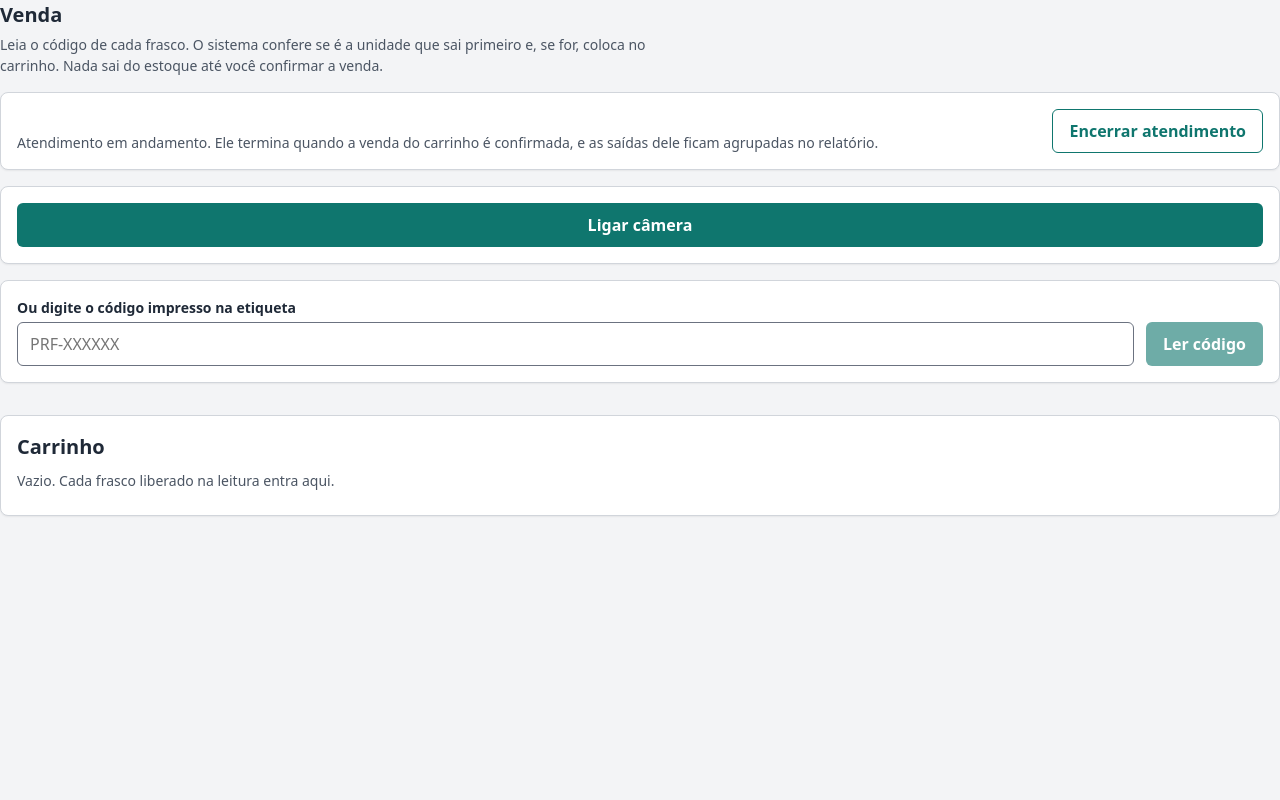
Scenario: TelaVenda (RF05, RF06, RNF07, T34) › os quatro vereditos na leitura, cada um com seu layout › informa a unidade vencida, oferece os caminhos e não a põe no carrinho
This screenshot has width=1280, height=800.
Type "PRF-VVVVVV" into the field labelled "Ou digite o código impresso na etiqueta" at (575, 344), box [17,322,1134,366]
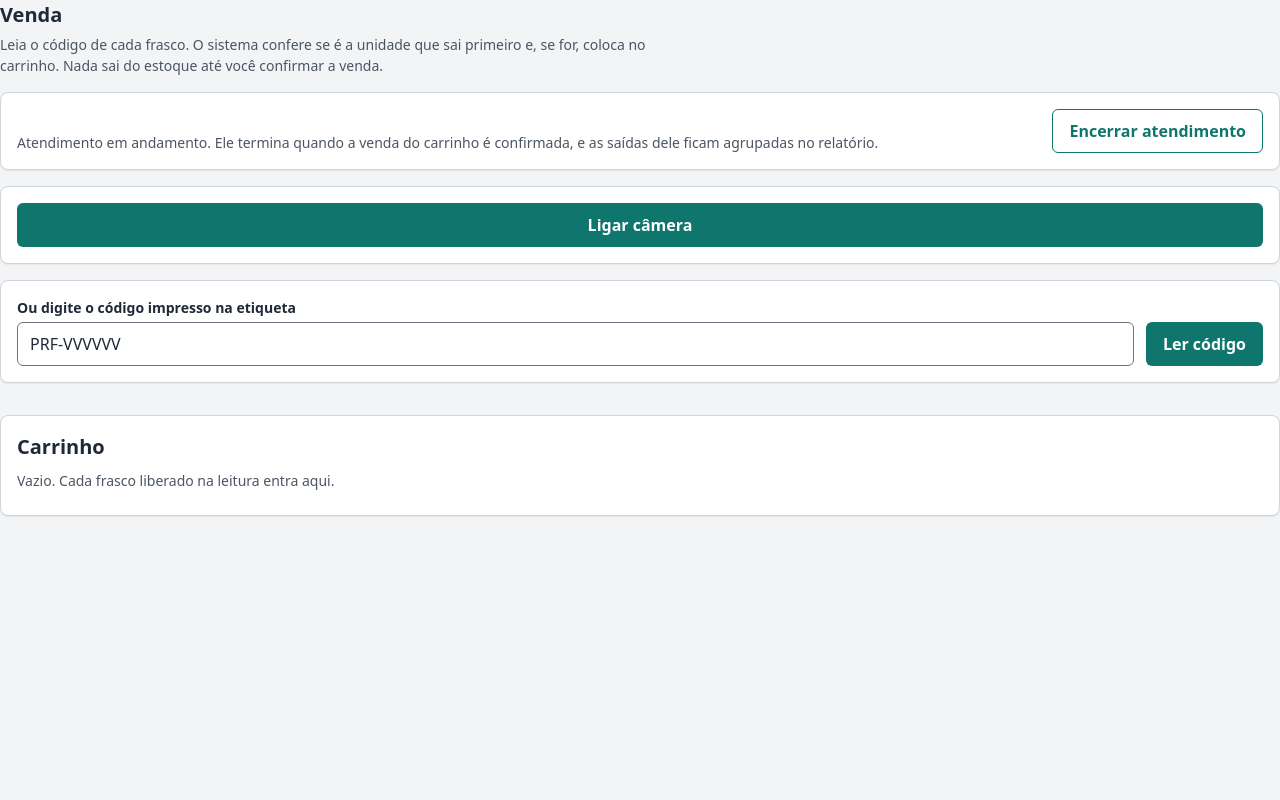
Click the button "Ler código" at (1204, 344), box [1146,322,1263,366]
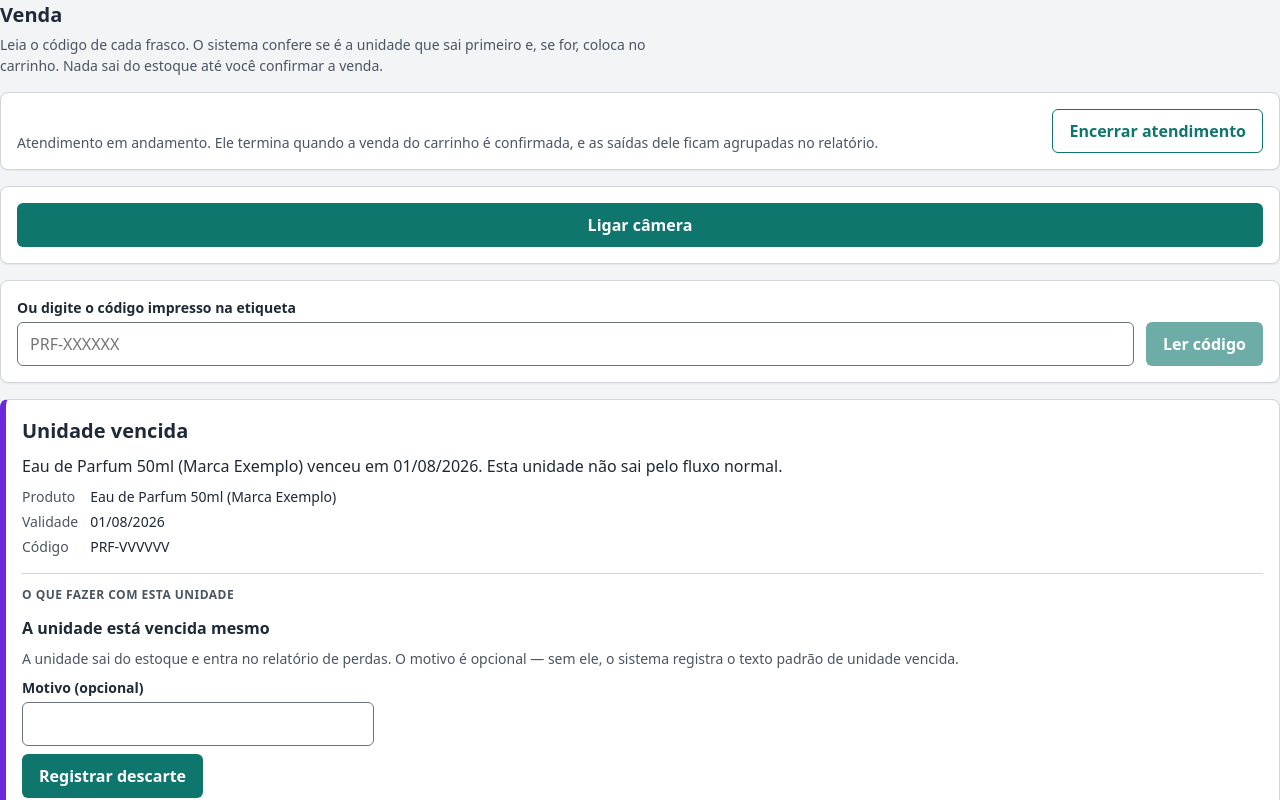
Now the heading "Unidade vencida" is shown, box [22,417,188,444]
Now the text "Eau de Parfum 50ml (Marca Exemplo) venceu em 01/08/2026. Esta unidade não sai pelo fluxo normal." is shown, box [22,455,782,477]
Now the button "Registrar descarte" is shown, box [22,754,203,798]
